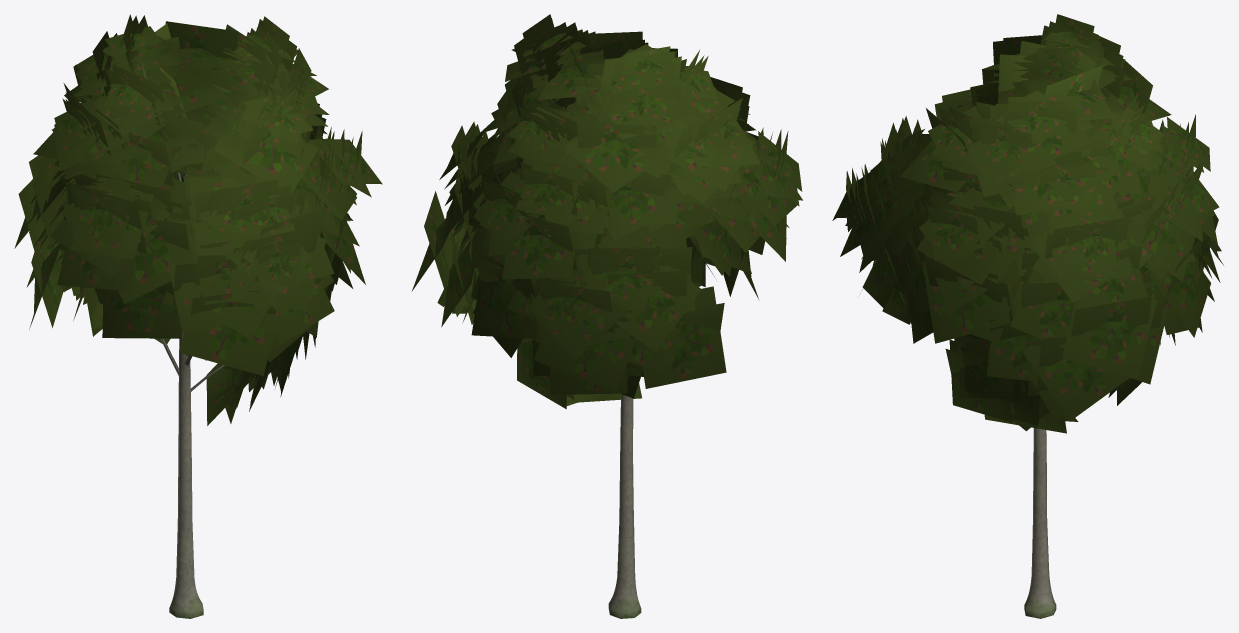
File: natural-beech.glb
3 renders of one model, left to right at view 1: azimuth 30°, elevation 25°; view 2: azimuth 150°, elevation 25°; view 3: azimuth 270°, elevation 25°, orthographic. The views are drawn at different scales.
Visible parts, largest first — view 1: leaves_lod2, trunk_lod2; view 2: leaves_lod2, trunk_lod2; view 3: leaves_lod2, trunk_lod2.
Part boxes in pixels (x1=…): leaves_lod2: x1=14, y1=14, x2=382, y2=425; trunk_lod2: x1=169, y1=331, x2=203, y2=618; leaves_lod2: x1=411, y1=14, x2=802, y2=409; trunk_lod2: x1=608, y1=394, x2=641, y2=618; leaves_lod2: x1=832, y1=14, x2=1223, y2=433; trunk_lod2: x1=1024, y1=428, x2=1056, y2=618.
Bounding box in the file's own units: 14.28 × 24.83 × 15.47.
Materials: 2 (2 with a texture image).
